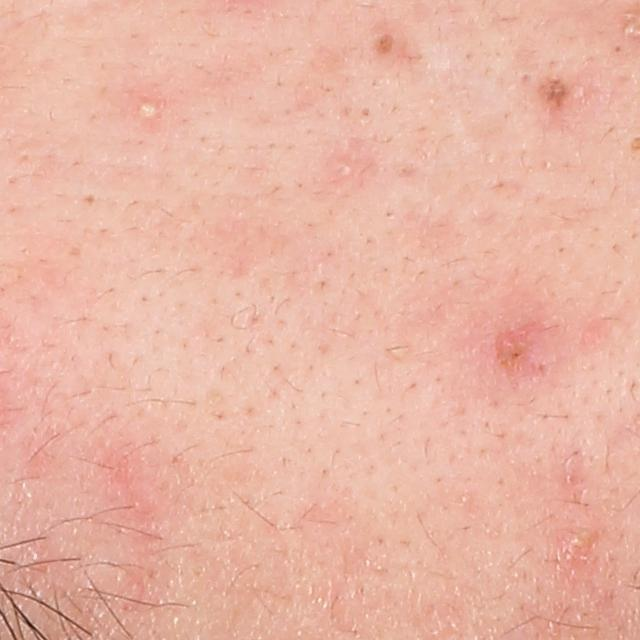comedo: (374, 31, 398, 60), (82, 190, 99, 209), (339, 161, 358, 174)
papule: (482, 317, 560, 381)
pustule: (133, 96, 163, 124)
